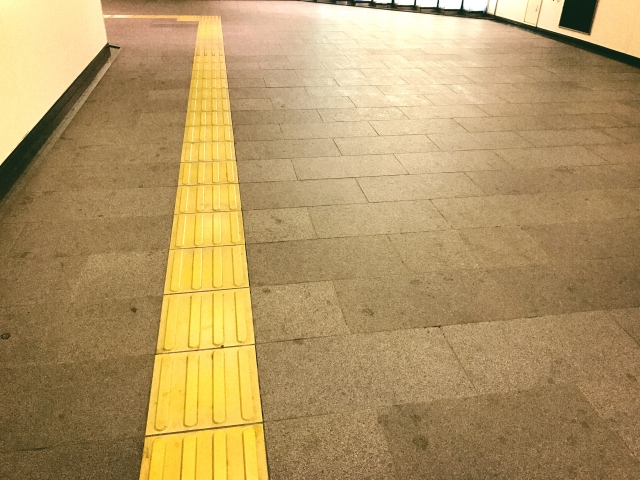line: (152, 354, 260, 429), (138, 423, 262, 480), (158, 286, 250, 353), (160, 243, 246, 295), (173, 211, 241, 248), (175, 183, 244, 214), (180, 162, 239, 184), (182, 141, 236, 165), (184, 126, 233, 142), (187, 111, 231, 127), (188, 98, 230, 111), (190, 88, 228, 97)
